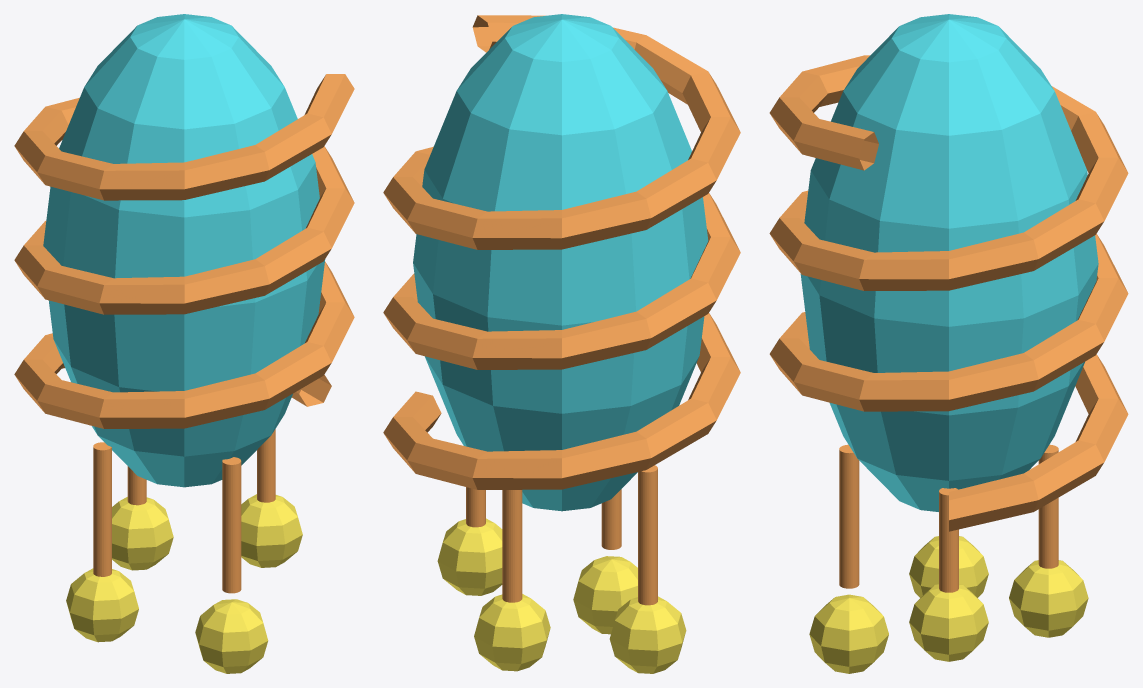
File: net_projectile.glb
3 views of the same model, side by side, from view 1: azimuth 30°, elevation 25°; view 2: azimuth 150°, elevation 25°; view 3: azimuth 270°, elevation 25° (orthographic). The views are drawn at different scales.
Parts seen in each view (by area): view 1: NetProjectile; view 2: NetProjectile; view 3: NetProjectile.
Part boxes in pixels (x1,y1,x2,y2): NetProjectile: [14, 14, 354, 673]; NetProjectile: [383, 14, 740, 673]; NetProjectile: [769, 14, 1128, 673].
Size of the model in its own units: 0.36 by 0.72 by 0.36.
